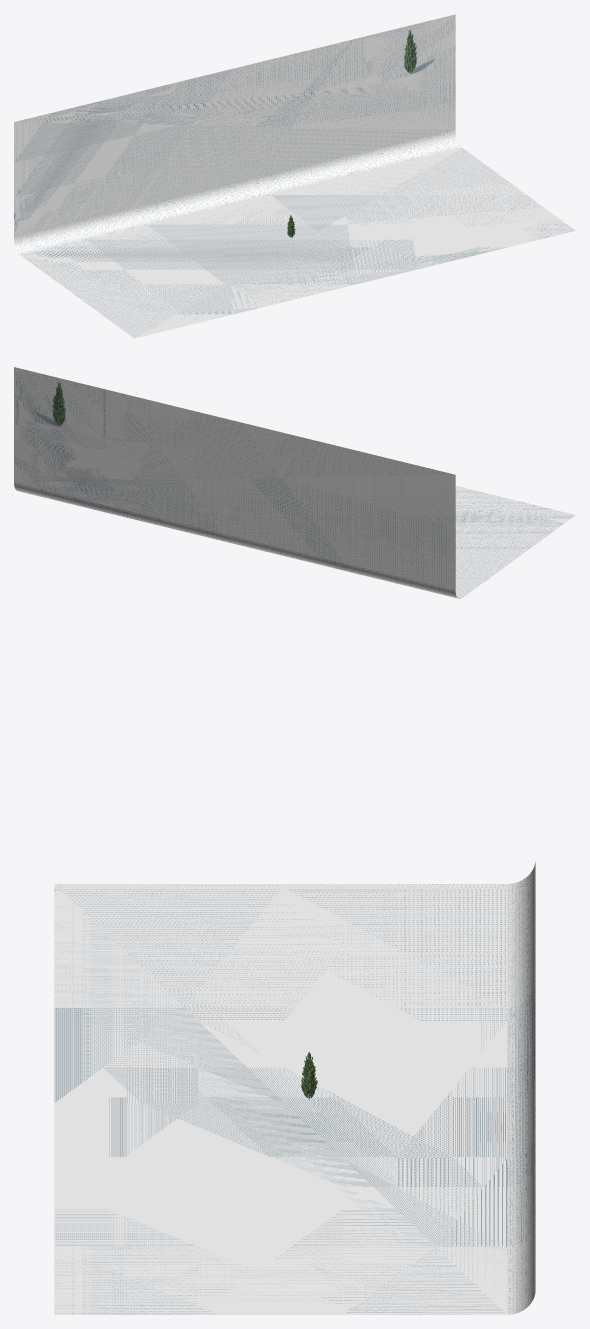
3 views of the same model, one above another, from view 1: azimuth 30°, elevation 25°; view 2: azimuth 150°, elevation 25°; view 3: azimuth 270°, elevation 25° (orthographic). The views are drawn at different scales.
Parts seen in each view (by area): view 1: group_0 (×2); view 2: group_0 (×2); view 3: group_0.
Boxes of the visible parts, <box> form: group_0 (×2): <box>14,14,575,338</box>; group_0 (×2): <box>14,367,575,598</box>; group_0: <box>54,862,535,1314</box>.
Size of the model in its own units: 1417 by 669 by 394.
5 materials, 3 textured.
